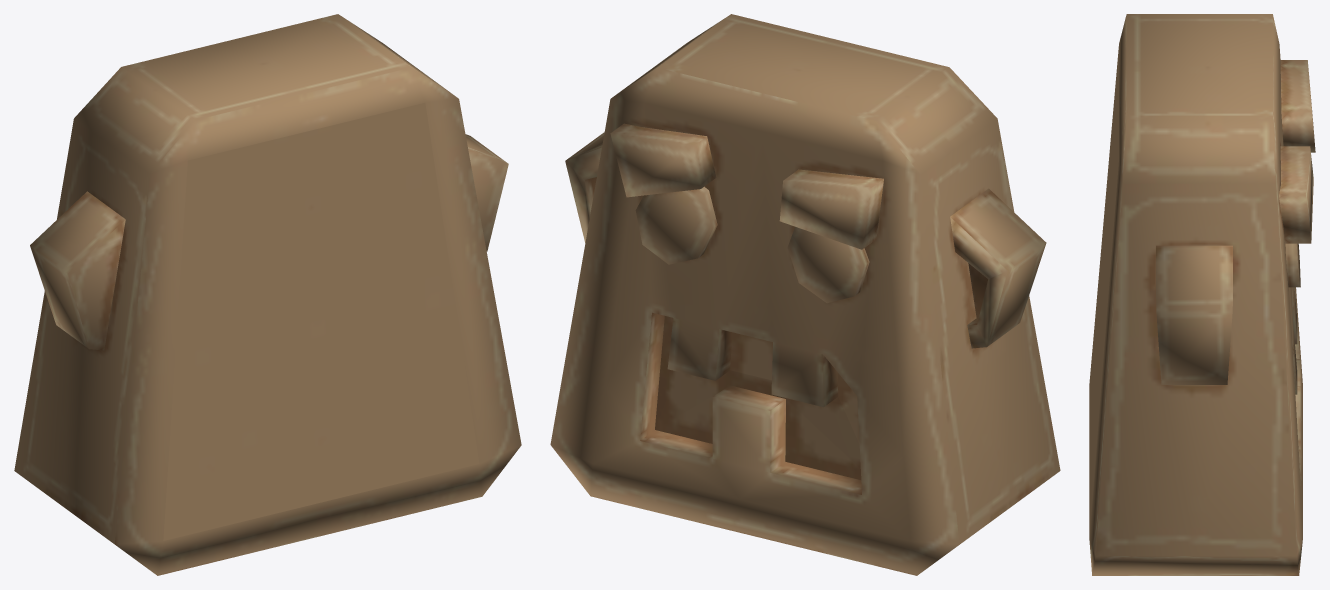
File: stoneHead2.fbx
3 renders of one model, left to right at view 1: azimuth 30°, elevation 25°; view 2: azimuth 150°, elevation 25°; view 3: azimuth 270°, elevation 25°, orthographic.
Parts seen in each view (by area): view 1: stoneHead2; view 2: stoneHead2; view 3: stoneHead2.
Boxes of the visible parts, <box> form: stoneHead2: <box>14,14,521,575</box>; stoneHead2: <box>550,14,1060,575</box>; stoneHead2: <box>1089,14,1315,575</box>.
Bounding box in the file's own units: 1.02 × 0.9488 × 0.4526.
Materials: 1 (1 with a texture image).
